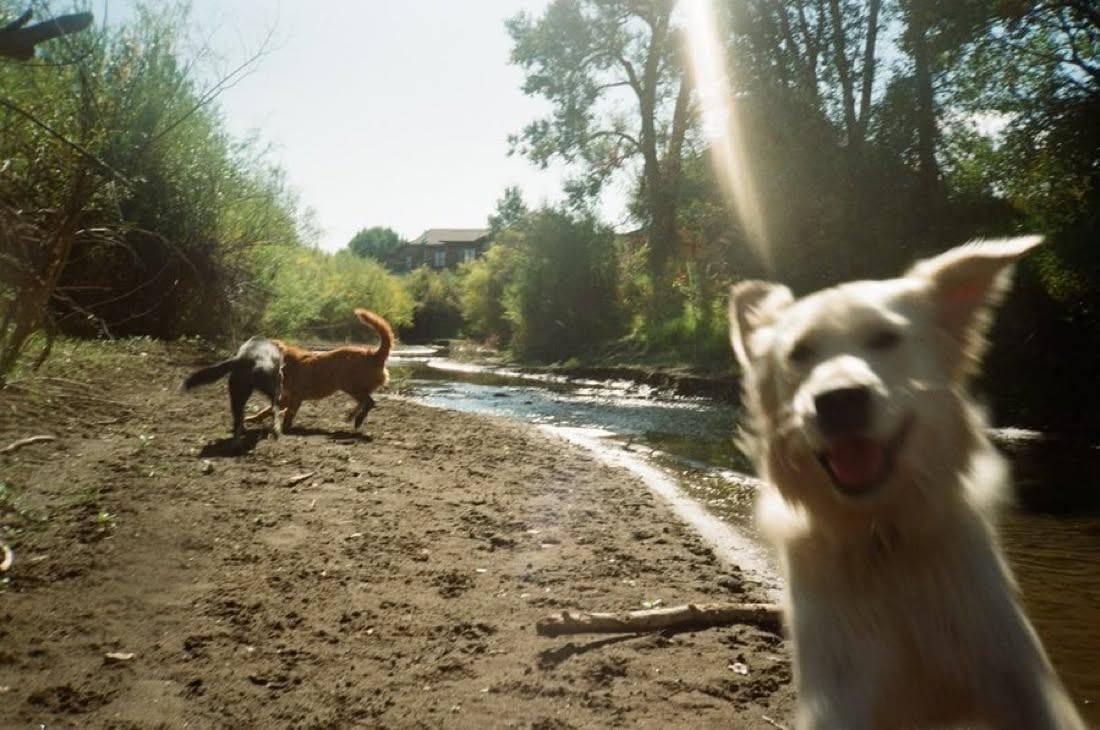adult_dog: (724, 230, 1091, 730), (274, 308, 395, 437), (184, 336, 286, 438)
